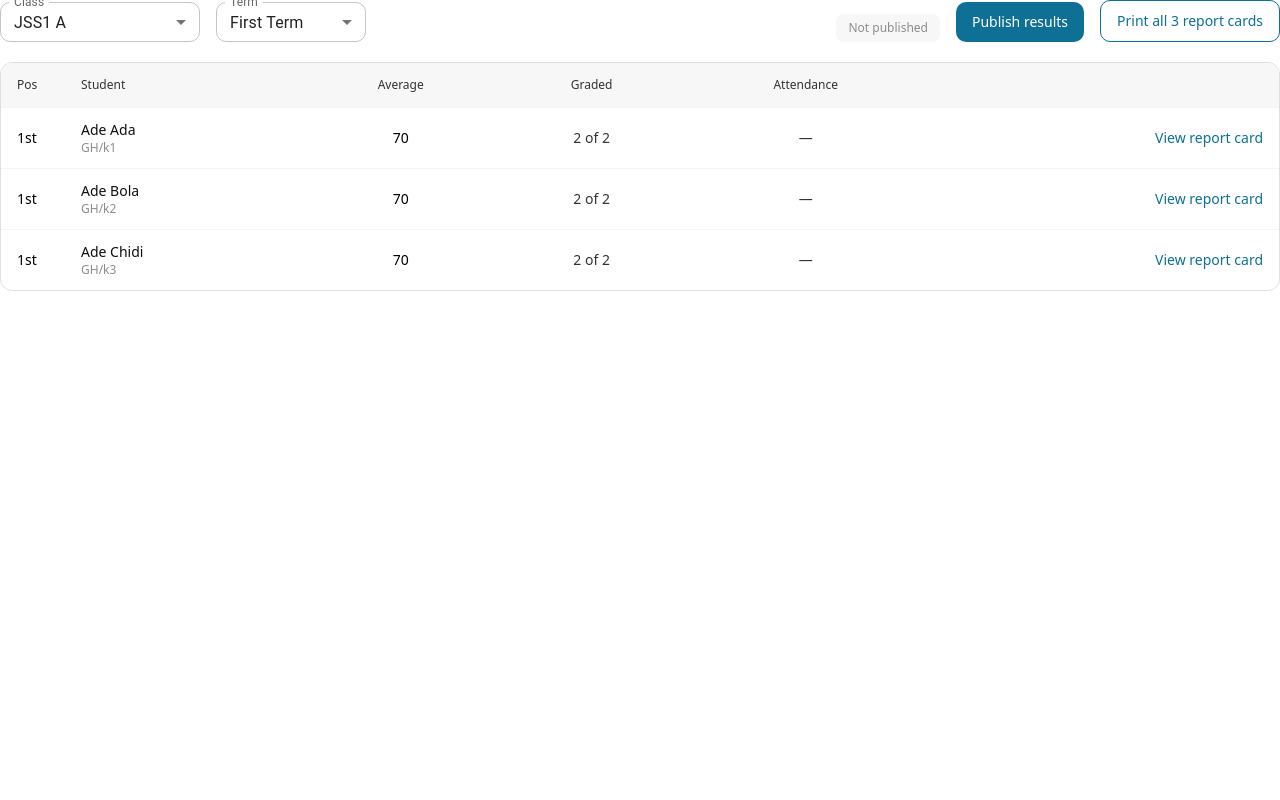
Scenario: publishing incomplete results › the 409 opens a dialog: the server's opening line, then the gaps as a list
The width and height of the screenshot is (1280, 800).
Click the button "Publish results".
click(1020, 22)  # box top-left (956, 2), bottom-right (1084, 42)
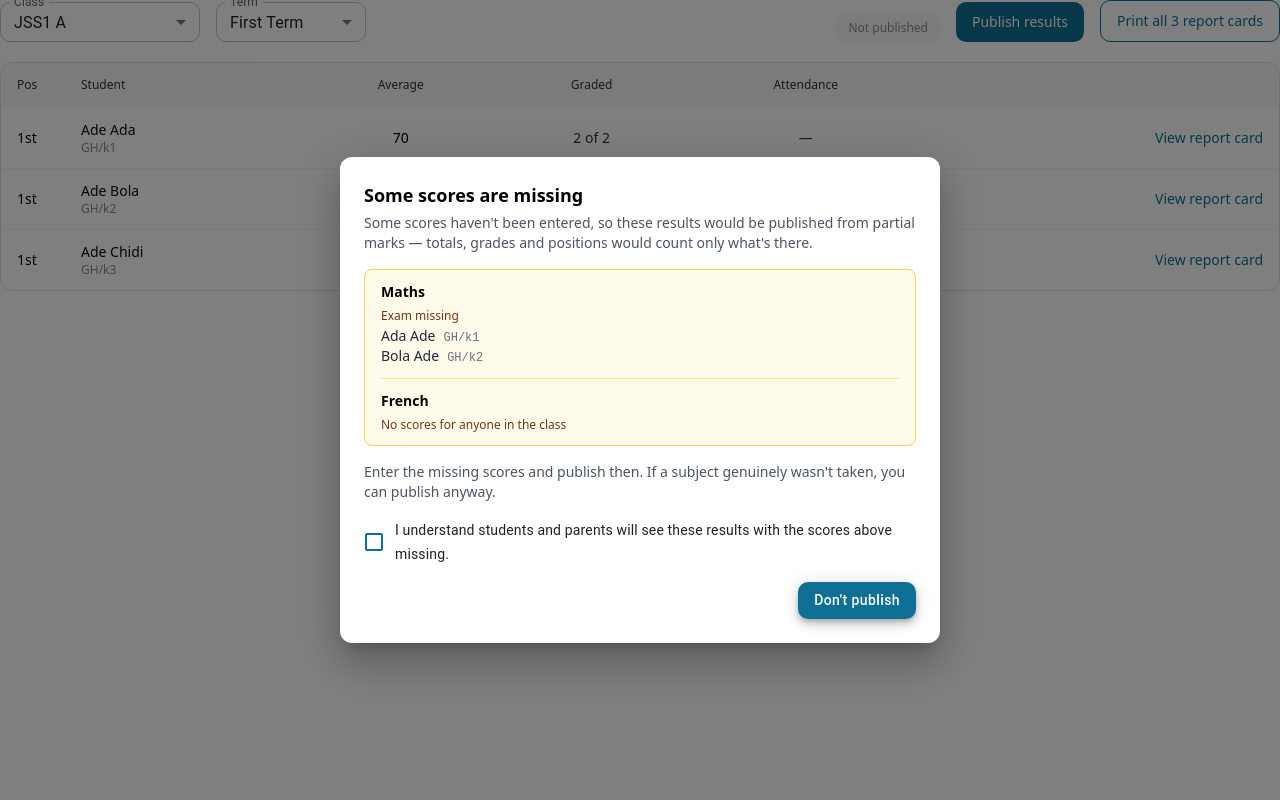
Expected: the dialog is shown, top-left (340, 157), bottom-right (940, 643)
